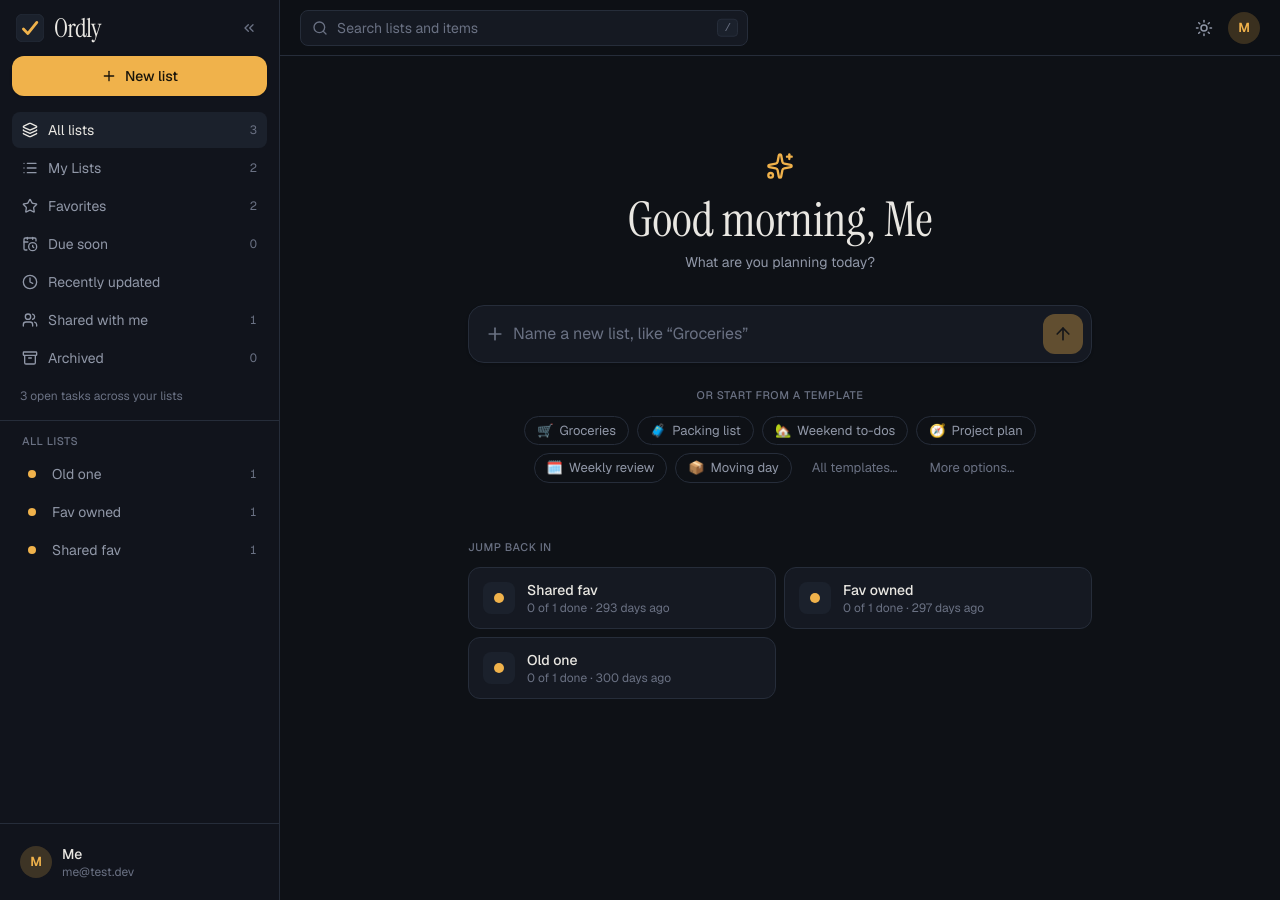
existing sidebar behaviour is unchanged › Favorites, Recently updated, selection and header search still work
The width and height of the screenshot is (1280, 900).
expect the navigation bar "lists" is shown: met, box [0,0,279,899]
expect the field named "Name for a new list" is shown: met, box [513,314,1035,354]
Click the button "Favorites 2" at (140, 206), box [12,188,267,224]
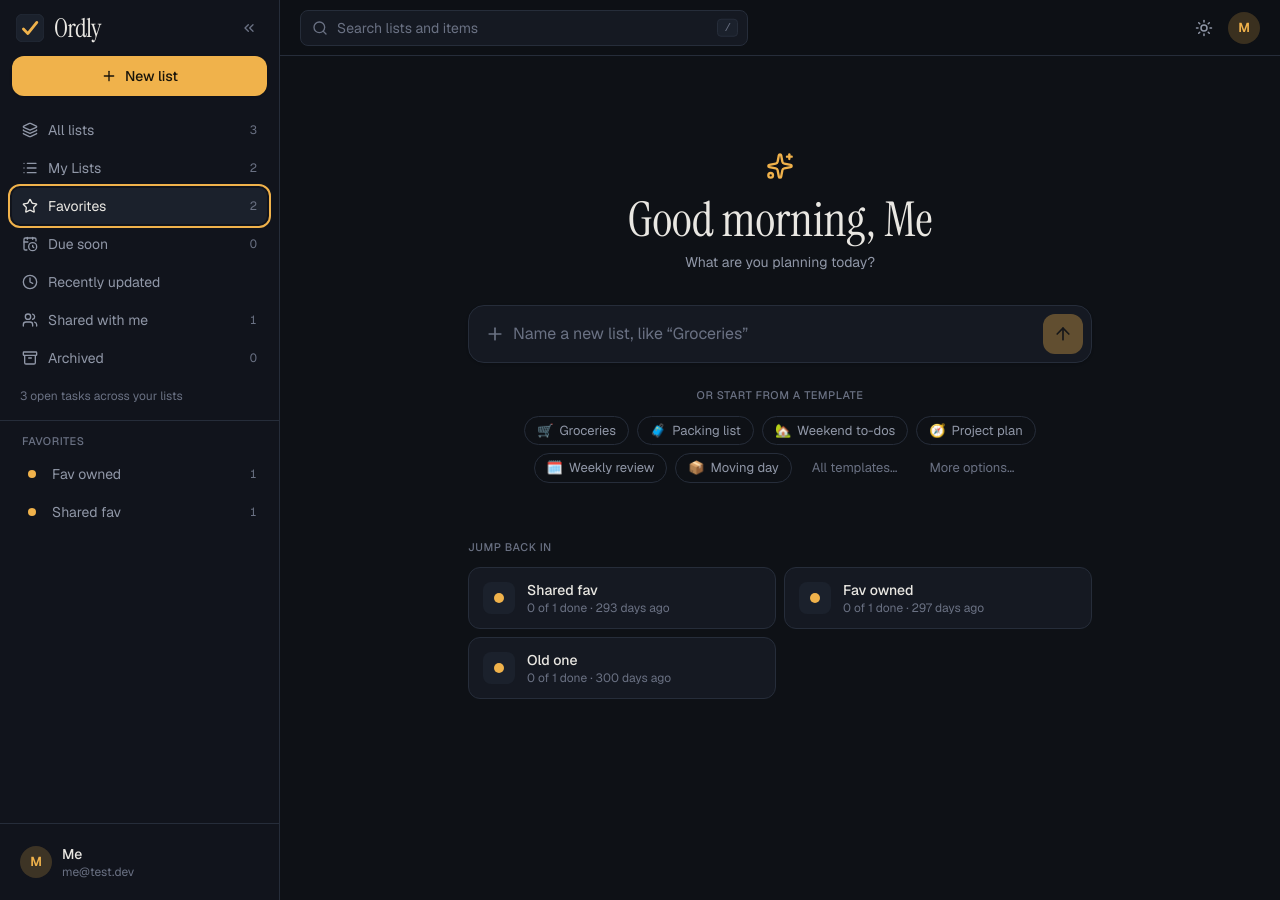
expect the button "Favorites 2" is marked as current: met, box [12,188,267,224]
Click the button "Recently updated" at (140, 282), box [12,264,267,300]
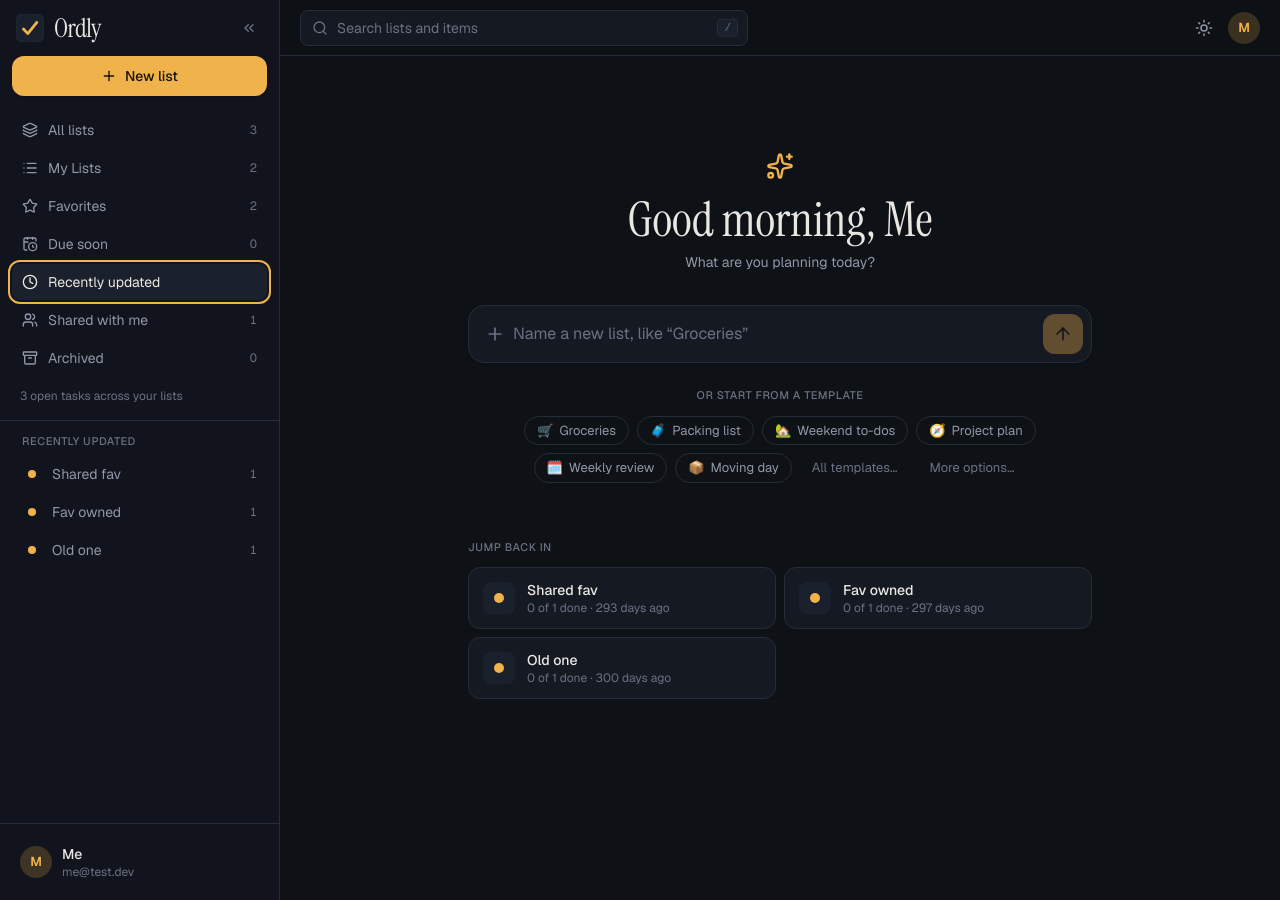
expect the button "Recently updated" is marked as current: met, box [12,264,267,300]
Click the button titled "Old one" at (140, 550), box [12,532,267,568]
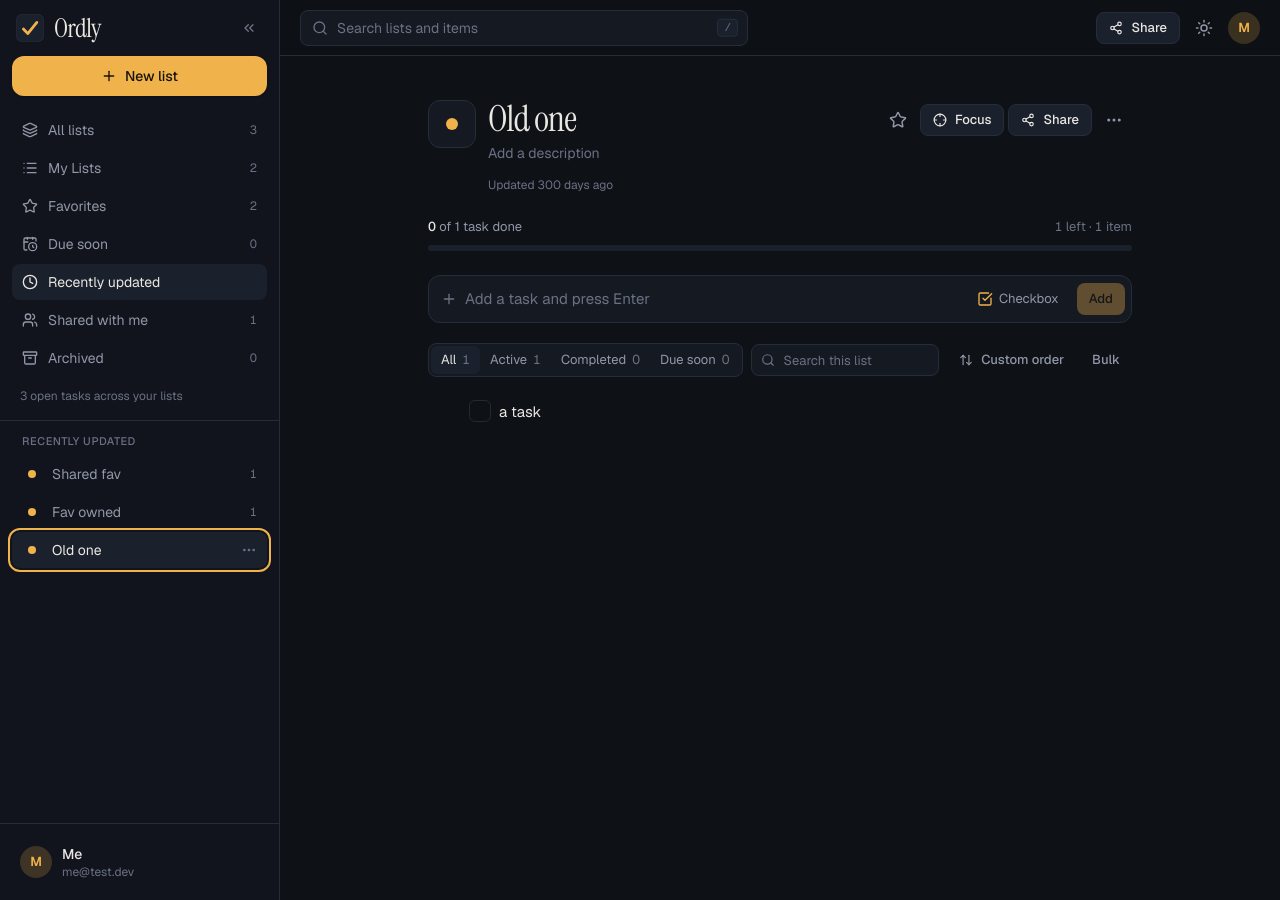
expect the field named "List title" holds "Old one": met, box [488,96,868,141]
Type "Shared" into the dropdown labelled "Search lists and items" at (524, 28), box [300,10,748,46]
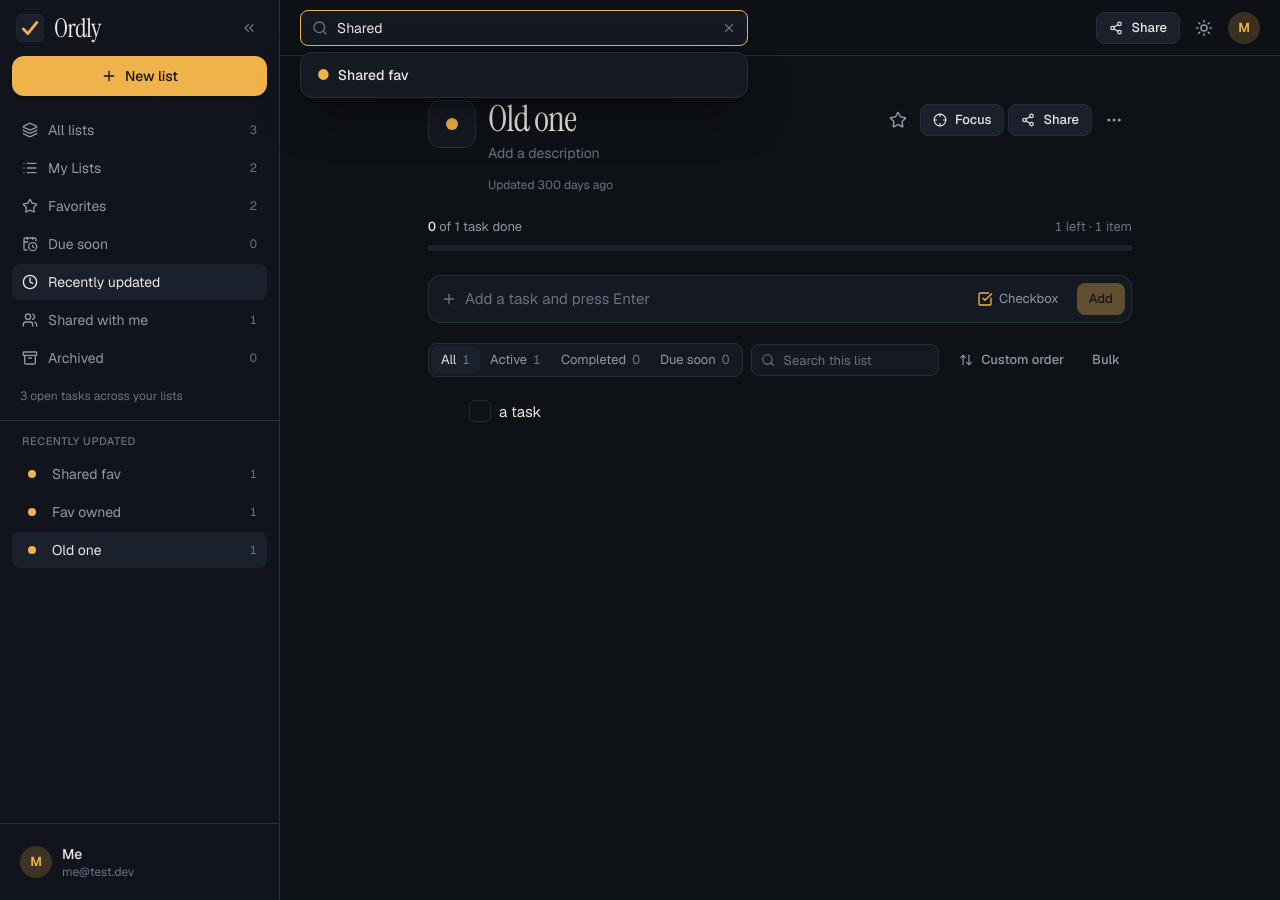
Click the option "● Shared fav" at (373, 74), box [305,56,743,92]
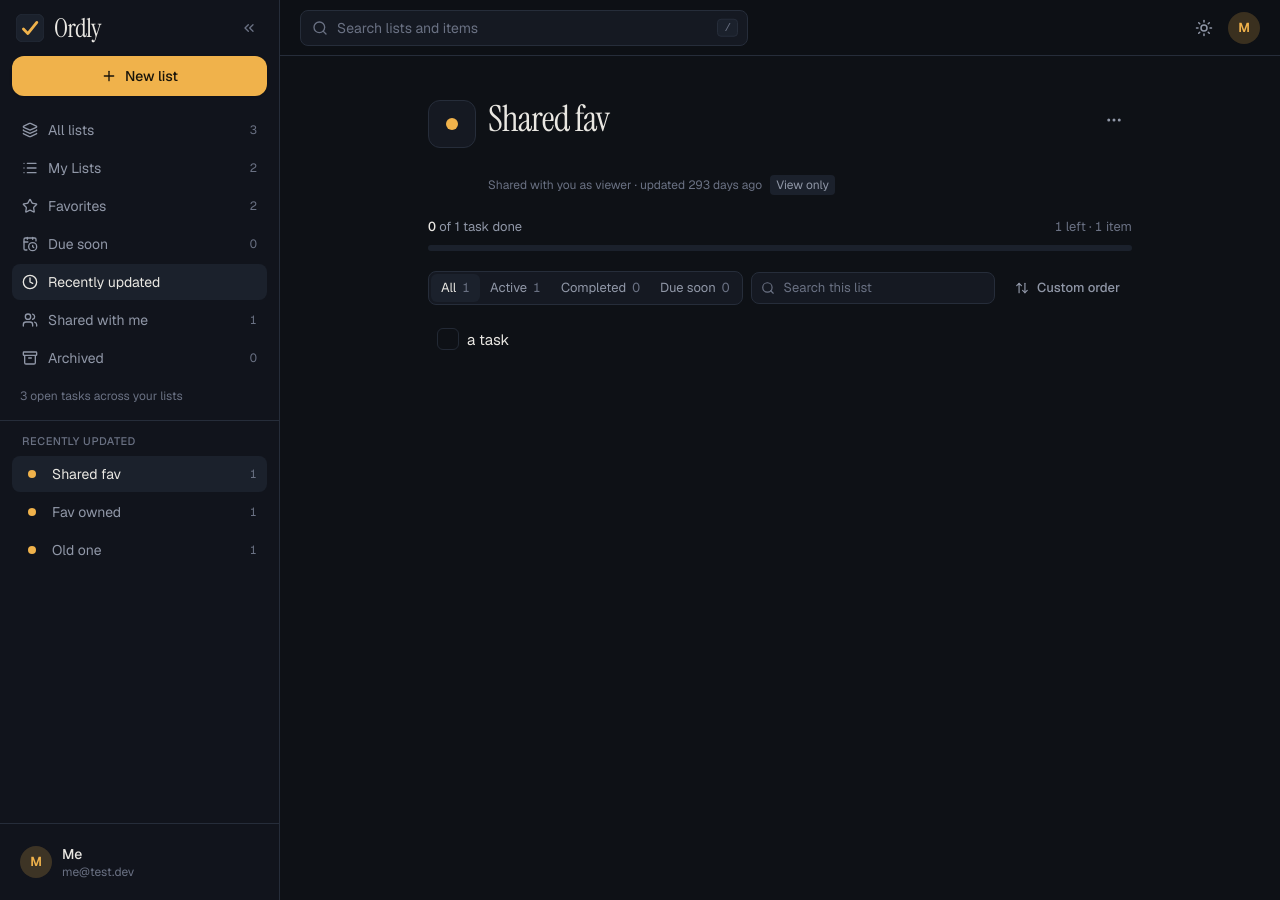
expect the field named "List title" holds "Shared fav": met, box [488,96,1084,141]
